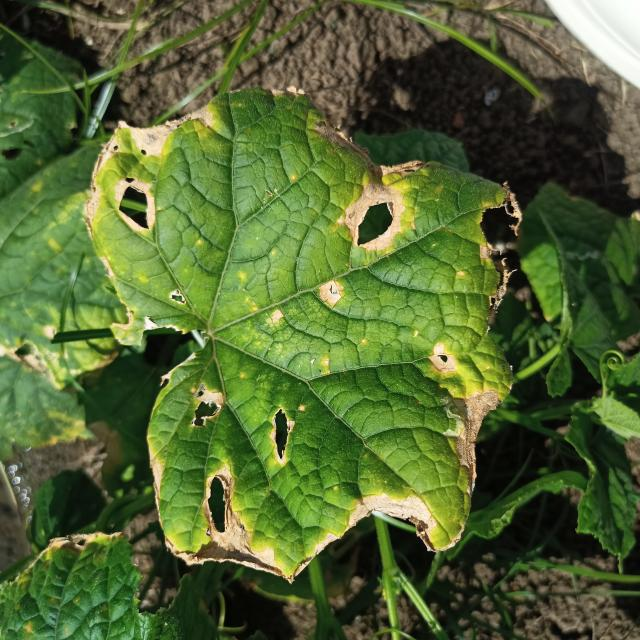disease_cucumber: (82, 88, 522, 588)
